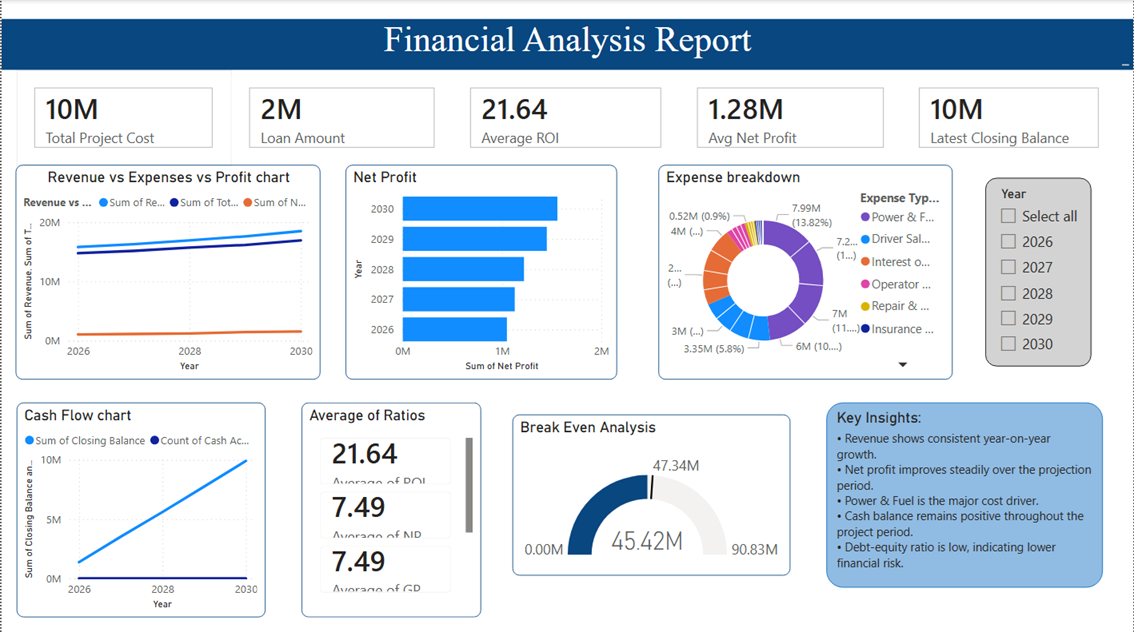

This screenshot's page, from the dashboard's own definition file:
{"tool":"powerbi","page":{"name":"Page 1","canvas":[1280,720],"ordinal":0},"visuals":[{"type":"cardVisual","fields":{"Data":["Expense_Data.Total Project Cost"]},"box":[17.5,79.3,242.1,108],"z":0},{"type":"cardVisual","fields":{"Data":["PowerBI_Data.Loan Amount"]},"box":[259.6,79.3,250.1,108],"z":1000},{"type":"cardVisual","fields":{"Data":["Ratio_Data.Average ROI"]},"box":[509.7,79.3,256.9,108],"z":2000},{"type":"cardVisual","fields":{"Data":["PowerBI_Data.Avg Net Profit"]},"box":[766.6,79.3,251.5,108],"z":3000},{"type":"cardVisual","fields":{"Data":["PowerBI_Data.Latest Closing Balance"]},"box":[1017.4,79.1,243,108],"z":4000},{"type":"lineChart","title":"Revenue vs Expenses vs Profit chart","fields":{"Category":["PowerBI_Data.Year"],"Y":["Sum(PowerBI_Data.Revenue)","Sum(PowerBI_Data.Total Expenses)","Sum(PowerBI_Data.Net Profit)"]},"box":[15.8,186.6,344.9,243.1],"z":5000},{"type":"clusteredBarChart","title":"Net Profit","fields":{"Y":["Sum(PowerBI_Data.Net Profit)"],"Category":["PowerBI_Data.Year"]},"box":[388.9,186.6,307.5,243.1],"z":6000},{"type":"lineChart","title":"Cash Flow chart","fields":{"Category":["PowerBI_Data.Year"],"Y":["Sum(PowerBI_Data.Closing Balance)","CountNonNull(PowerBI_Data.Cash Accruals)"]},"box":[17,455.7,281.5,243.1],"z":7000},{"type":"donutChart","title":"Expense breakdown","fields":{"Category":["Expense_Data.Expense Type_11","Expense_Data.Expense Type_8","Expense_Data.Expense Type_2","Expense_Data.Expense Type_5","Expense_Data.Expense Type"],"Y":["Sum(Expense_Data.Amount_9)","Sum(Expense_Data.Amount_6)","Sum(Expense_Data.Amount_3)","Sum(Expense_Data.Amount)"]},"box":[742.8,186.6,332.4,243.1],"z":8000},{"type":"cardVisual","title":"Average of Ratios","fields":{"Data":["Avg(Ratio_Data.ROI)","Avg(Ratio_Data.NP Ratio)","Avg(Ratio_Data.GP Ratio)","Avg(Ratio_Data.Debt Equity Ratio)","Avg(Ratio_Data.Current Ratio)"]},"box":[339.2,455.7,203.5,243.1],"z":9000},{"type":"slicer","fields":{"Values":["PowerBI_Data.Year"]},"box":[1112.6,201.3,119.8,213.7],"z":10000},{"type":"gauge","title":"Break Even Analysis","fields":{"Y":["Sum(BEP.Column6)"],"TargetValue":["Sum(BEP.Column4)"]},"box":[577.8,469.2,314.3,182],"z":11000},{"type":"textbox","title":"Financial Analysis Report","box":[0,21.5,1279.9,57.7],"z":12000},{"type":"textbox","title":"Key Insights:","box":[932.6,455.8,312.8,209.3],"z":13000}]}

Visuals, with their boxes in screenshot pixels (x1, y1, x2, y2), scaled from the page's 1280x720 canvas onto the 1135x636 screenshot:
cardVisual - Expense_Data.Total Project Cost: bbox(16, 70, 230, 165)
cardVisual - PowerBI_Data.Loan Amount: bbox(230, 70, 452, 165)
cardVisual - Ratio_Data.Average ROI: bbox(452, 70, 680, 165)
cardVisual - PowerBI_Data.Avg Net Profit: bbox(680, 70, 903, 165)
cardVisual - PowerBI_Data.Latest Closing Balance: bbox(902, 70, 1118, 165)
"Revenue vs Expenses vs Profit chart" lineChart: bbox(14, 165, 320, 380)
"Net Profit" clusteredBarChart: bbox(345, 165, 618, 380)
"Cash Flow chart" lineChart: bbox(15, 403, 265, 617)
"Expense breakdown" donutChart: bbox(659, 165, 953, 380)
"Average of Ratios" cardVisual: bbox(301, 403, 481, 617)
slicer - PowerBI_Data.Year: bbox(987, 178, 1093, 367)
"Break Even Analysis" gauge: bbox(512, 414, 791, 575)
"Financial Analysis Report" textbox: bbox(0, 19, 1134, 70)
"Key Insights:" textbox: bbox(827, 403, 1104, 588)
